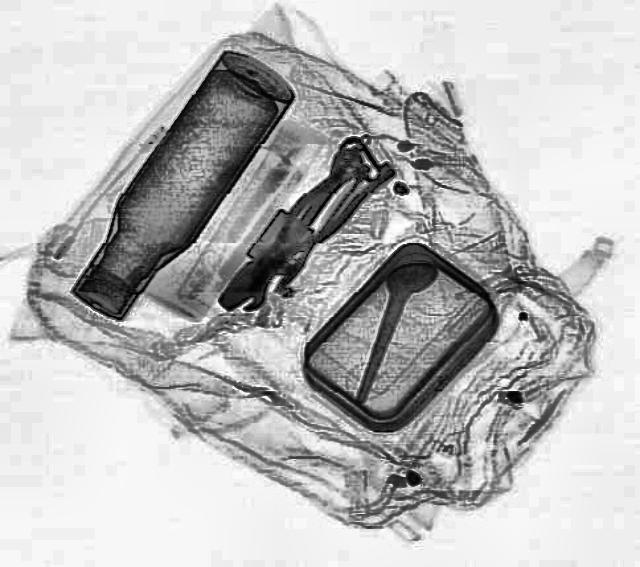Pliers: (220, 142, 396, 302)
Wrench: (216, 139, 374, 315)
